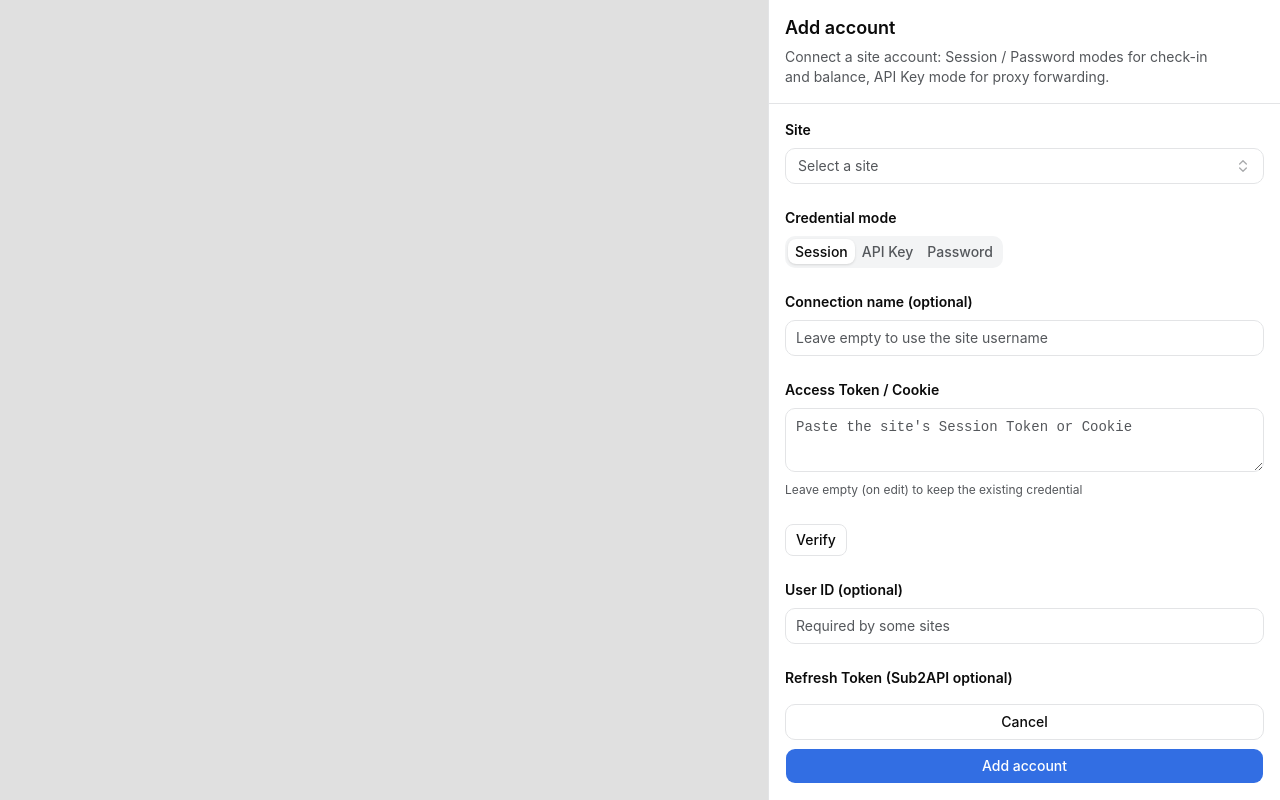
Test case: AccountFormDialog credential modes › renders all modes and switches to password fields
Click the tab "Password".
click(960, 252)  # box [920,239,1000,264]
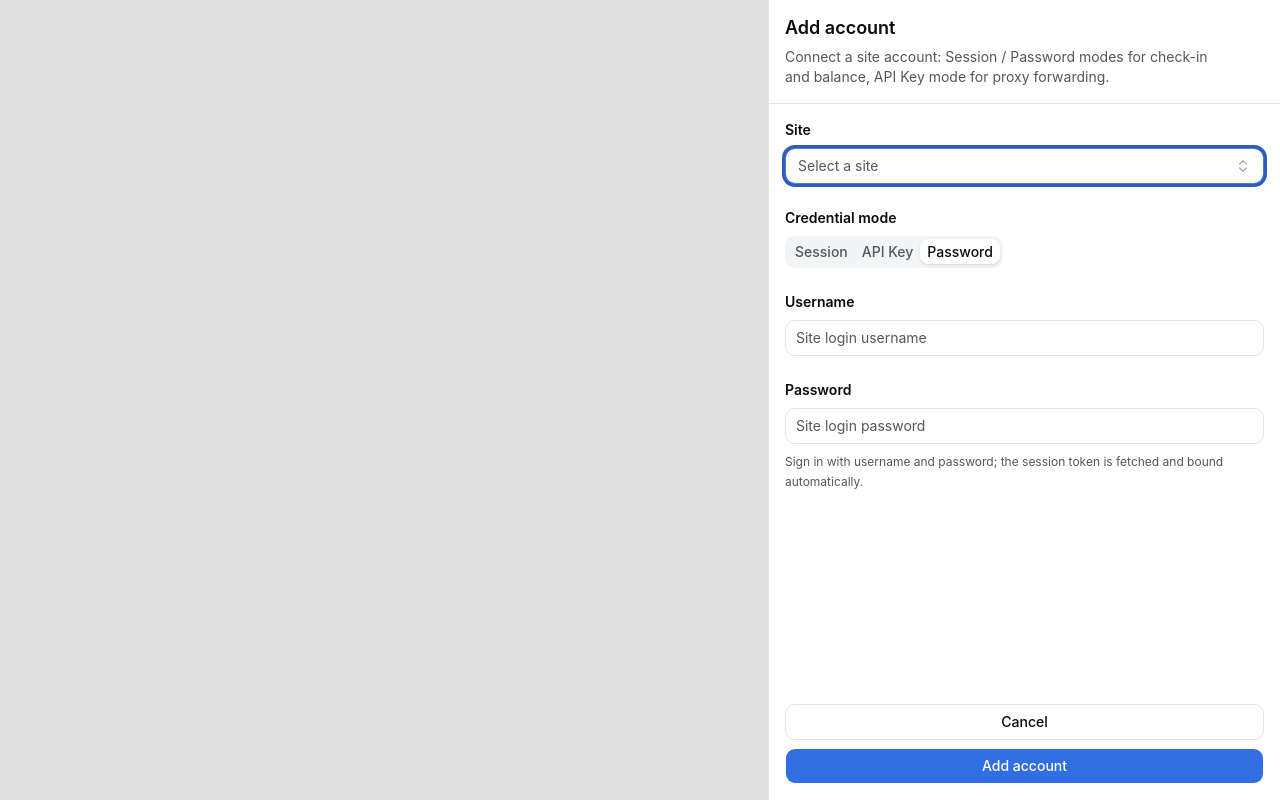
expect the password field labelled "Password" is shown: met, box [785,408,1264,444]
